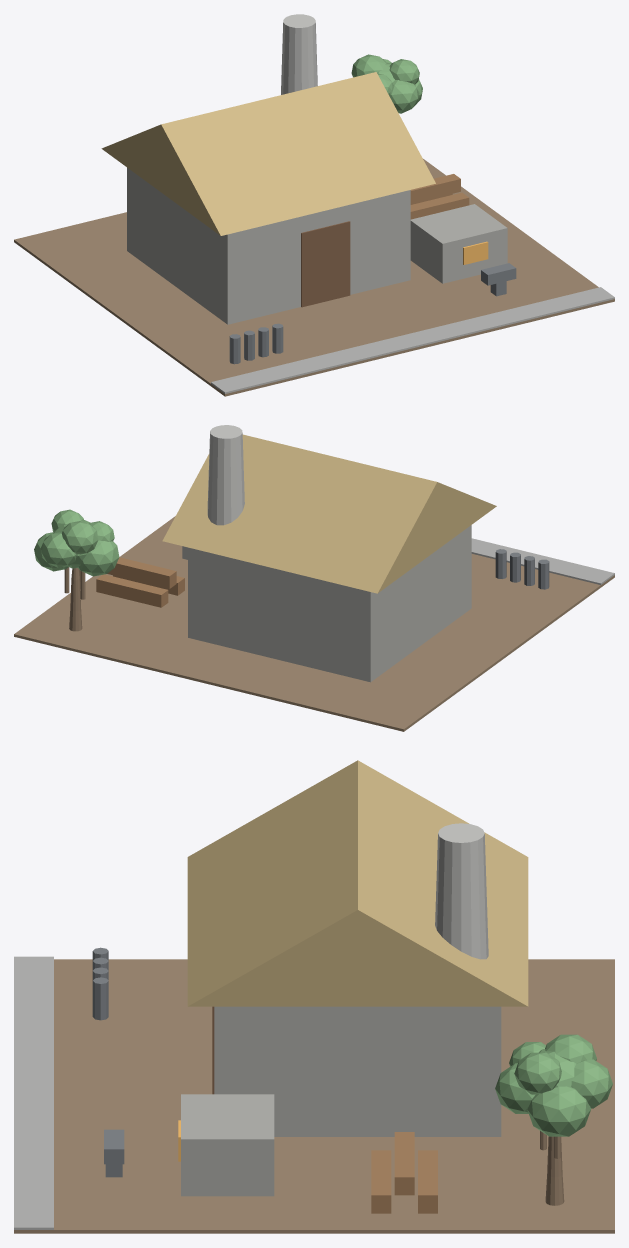
The model's file is forge.fbx.
3 views of the same model, one above another, from view 1: azimuth 30°, elevation 25°; view 2: azimuth 150°, elevation 25°; view 3: azimuth 270°, elevation 25° (orthographic). The views are drawn at different scales.
Visible parts, largest first — view 1: forge; view 2: forge; view 3: forge.
Boxes of the visible parts, x1=… form: forge: x1=14, y1=14, x2=614, y2=396; forge: x1=14, y1=425, x2=614, y2=731; forge: x1=14, y1=760, x2=614, y2=1233.
Size of the model in its own units: 960 by 480 by 900.
